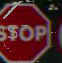Stop: (1, 3, 53, 62)
